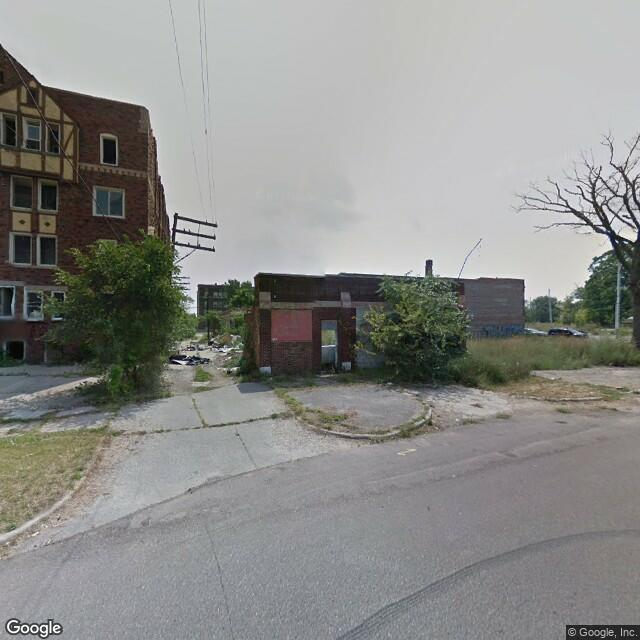litter: (25, 528, 46, 539)
